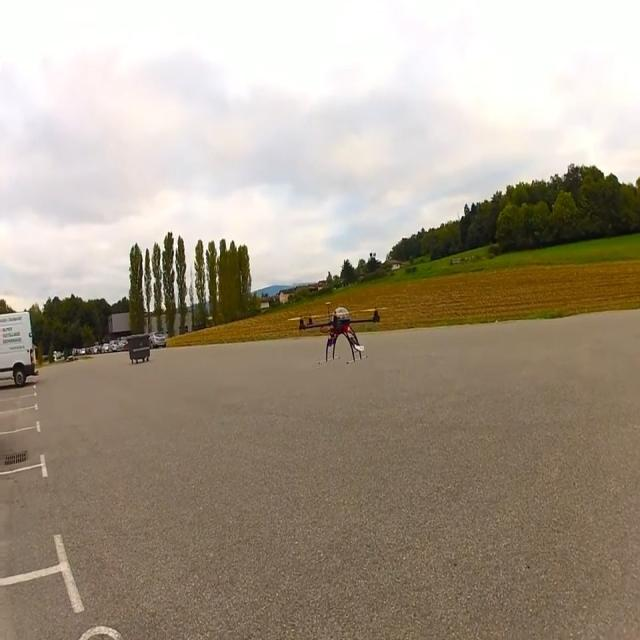drone: (298, 303, 380, 362)
